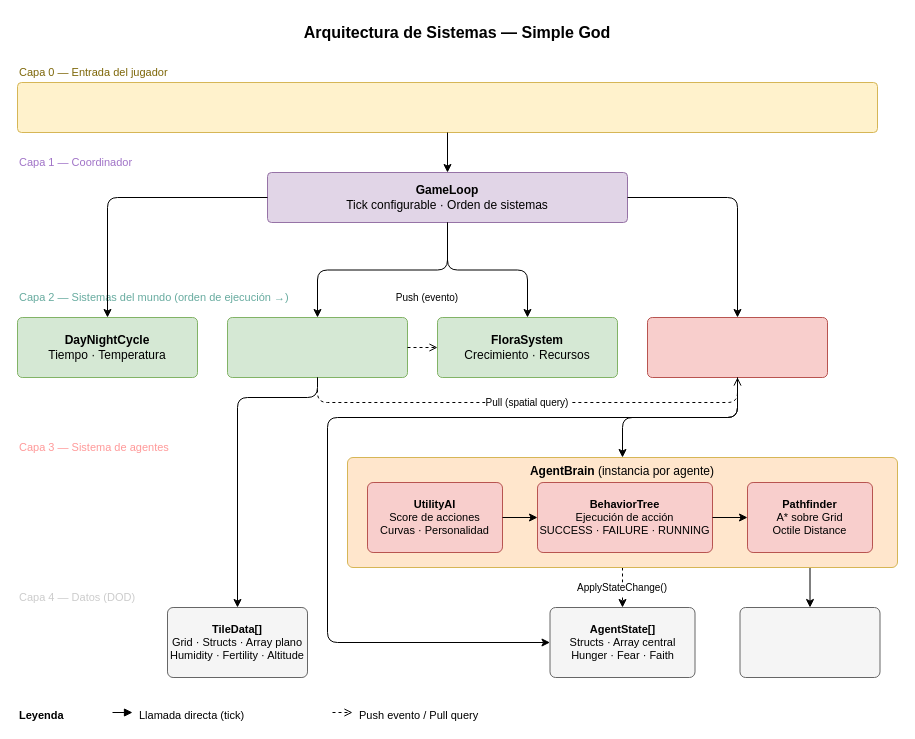
The diagram is 915 pixels wide and 739 high, and some of its shapes have lost their labels. The shapes that lost their labels are listed below. From the top down, each one's centre as x and y in pixels, then its label:
the point at 447,107: Entrada del jugador Clicks en el Grid → PowerSystem
the point at 317,347: GridManager Variables de tiles
the point at 737,347: AIManager Scheduling · Time-slicing
the point at 809,642: PathNode heap Open List · Closed List g · h · f · parent
